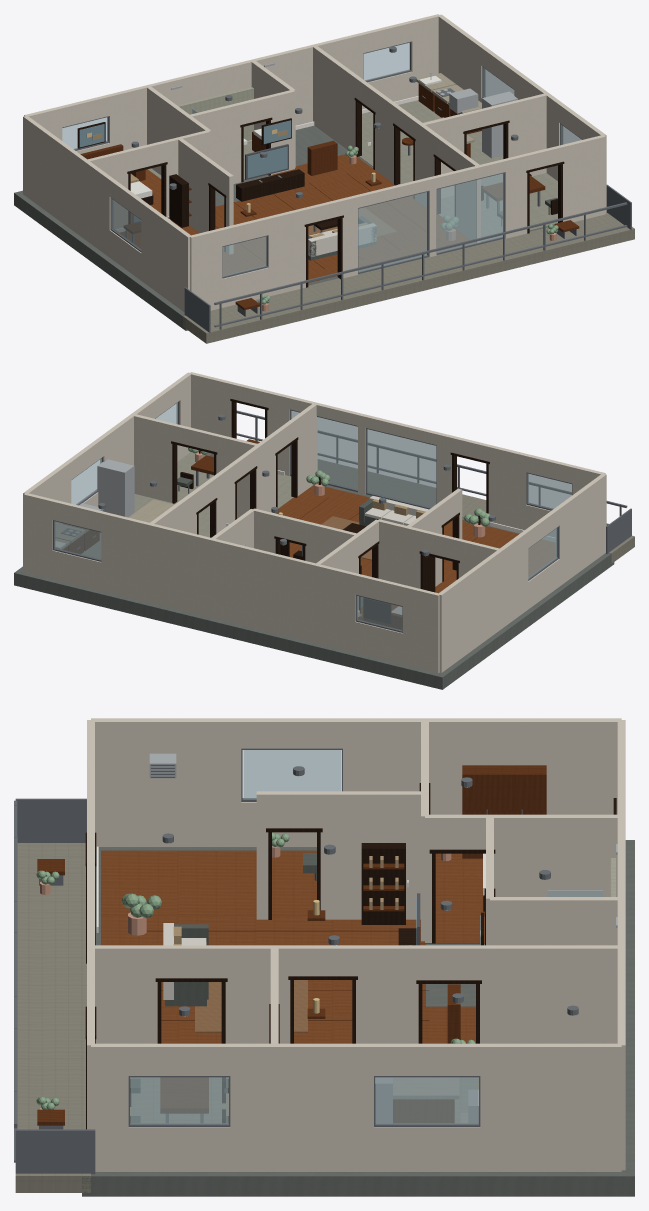
File: casa_atlas.glb
3 views of the same model, one above another, from view 1: azimuth 30°, elevation 25°; view 2: azimuth 150°, elevation 25°; view 3: azimuth 270°, elevation 25° (orthographic). The views are drawn at different scales.
Visible parts, largest first — view 1: architecture__wall_plaster, glass__glass, architecture__balcony_stone, architecture__floor_oak, furniture__wood_dark, architecture__metal_dark, architecture__floor_tile, architecture__floor_concrete, furniture__wood_warm, furniture__metal_dark, furniture__screen, furniture__steel (+7 smaller); view 2: architecture__wall_plaster, glass__glass, architecture__floor_concrete, furniture__wood_dark, architecture__floor_oak, architecture__balcony_stone, furniture__metal_dark, architecture__metal_dark, furniture__steel, architecture__floor_tile, furniture__wood_warm, furniture__counter_stone (+3 smaller); view 3: architecture__wall_plaster, architecture__floor_oak, architecture__balcony_stone, architecture__floor_concrete, glass__glass, furniture__wood_warm, furniture__wood_dark, architecture__metal_dark, architecture__floor_tile, furniture__metal_dark, furniture__sofa_fabric, furniture__steel (+5 smaller).
Part boxes in pixels (left/top/right/bottom): architecture__wall_plaster: left=23, top=14, right=606, bottom=312; glass__glass: left=62, top=42, right=581, bottom=276; architecture__balcony_stone: left=183, top=213, right=634, bottom=343; architecture__floor_oak: left=120, top=154, right=472, bottom=282; furniture__wood_dark: left=77, top=97, right=564, bottom=287; architecture__metal_dark: left=184, top=184, right=631, bottom=332; architecture__floor_tile: left=148, top=100, right=557, bottom=241; architecture__floor_concrete: left=14, top=125, right=554, bottom=330; furniture__wood_warm: left=80, top=83, right=579, bottom=310; furniture__metal_dark: left=62, top=41, right=582, bottom=316; furniture__screen: left=79, top=120, right=291, bottom=222; furniture__steel: left=171, top=63, right=517, bottom=158; architecture__wall_plaster: left=23, top=372, right=606, bottom=673; glass__glass: left=54, top=402, right=571, bottom=630; architecture__floor_concrete: left=14, top=475, right=614, bottom=689; furniture__wood_dark: left=171, top=399, right=489, bottom=623; architecture__floor_oak: left=275, top=485, right=555, bottom=616; architecture__balcony_stone: left=318, top=459, right=634, bottom=563; furniture__metal_dark: left=53, top=401, right=572, bottom=632; architecture__metal_dark: left=236, top=410, right=631, bottom=553; furniture__steel: left=79, top=459, right=134, bottom=517; architecture__floor_tile: left=82, top=452, right=361, bottom=615; furniture__wood_warm: left=63, top=439, right=401, bottom=629; furniture__counter_stone: left=55, top=499, right=174, bottom=549; architecture__wall_plaster: left=87, top=718, right=625, bottom=1171; architecture__floor_oak: left=101, top=850, right=484, bottom=1043; architecture__balcony_stone: left=15, top=843, right=90, bottom=1192; architecture__floor_concrete: left=82, top=840, right=634, bottom=1196; glass__glass: left=130, top=750, right=602, bottom=1123; furniture__wood_warm: left=37, top=765, right=546, bottom=1125; furniture__wood_dark: left=85, top=783, right=616, bottom=1129; architecture__metal_dark: left=14, top=798, right=95, bottom=1174; architecture__floor_tile: left=95, top=1077, right=614, bottom=1172; furniture__metal_dark: left=39, top=748, right=522, bottom=1129; furniture__sofa_fabric: left=130, top=853, right=316, bottom=1123; furniture__steel: left=149, top=753, right=617, bottom=1123.
Bounding box in the file's own units: 18 × 3.63 × 14.04.
Materials: 25 (12 with a texture image).
